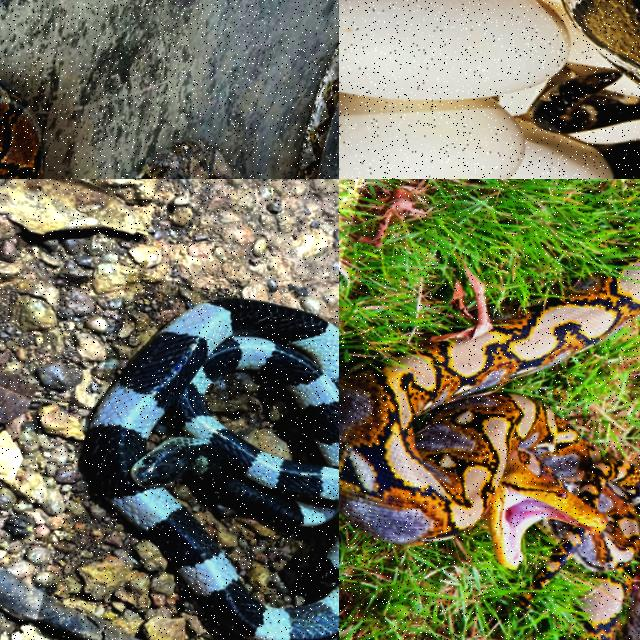Bungarus candidus: (85, 298, 338, 639)
Malayopython reticulatus: (339, 253, 639, 606), (294, 39, 338, 178)
Python bivittatus: (531, 72, 639, 134)
snake: (339, 253, 639, 606), (85, 298, 338, 639), (531, 72, 639, 134), (294, 39, 338, 178)
